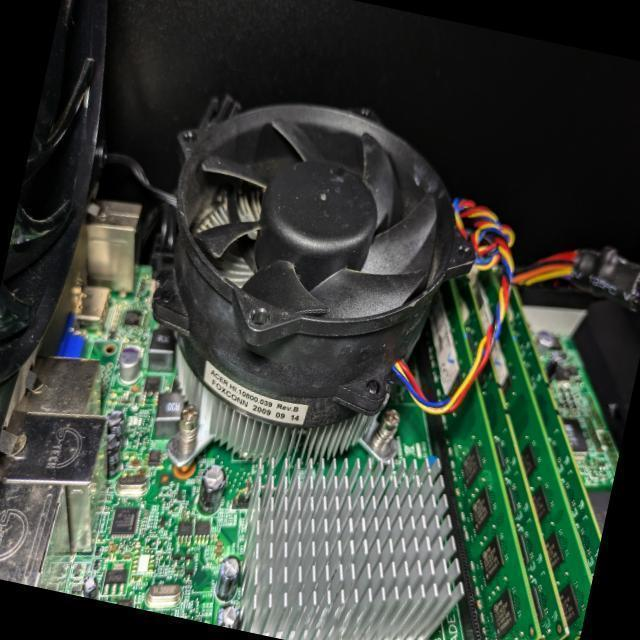CPU_Fan: (108, 69, 500, 518)
Mainboard: (7, 227, 640, 640)
RAM: (382, 272, 636, 640), (361, 276, 610, 640), (405, 267, 640, 640), (440, 274, 640, 577)
